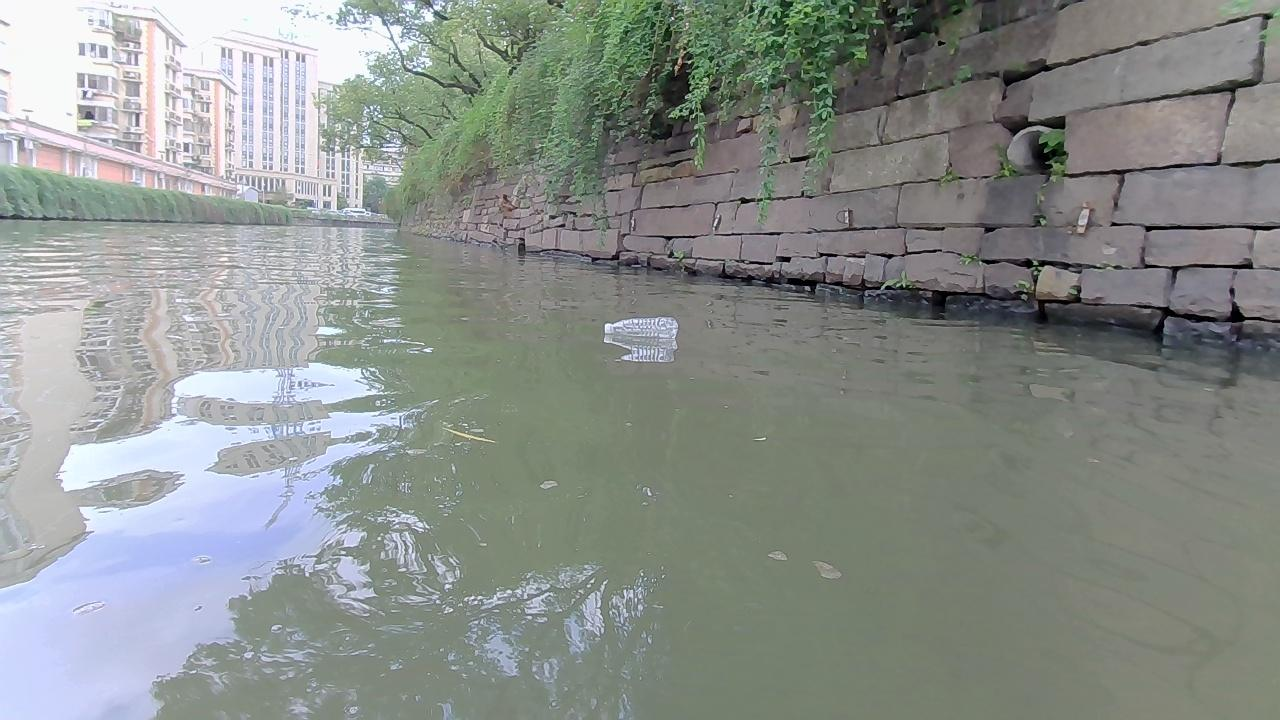bottle: (604, 315, 677, 336)
